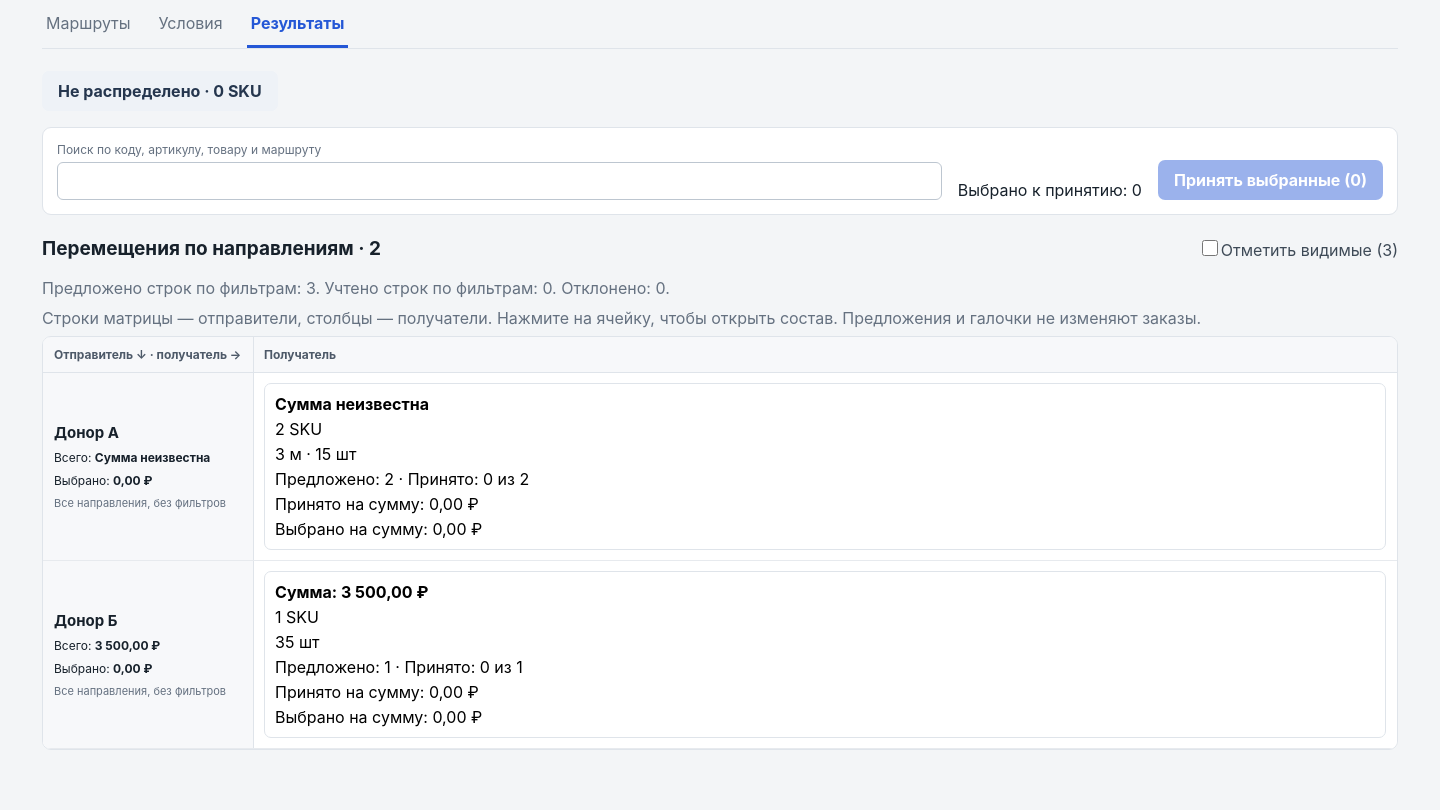
opens a route document with product identity, exact units and both stock previews without quantity editing
(page scrolled)
What coordinates should you click on to do the following:
click the button with aria-label "Открыть перемещение Донор А → Получатель"
I would click on:
 (825, 466)
Its box is [264,383,1386,550].
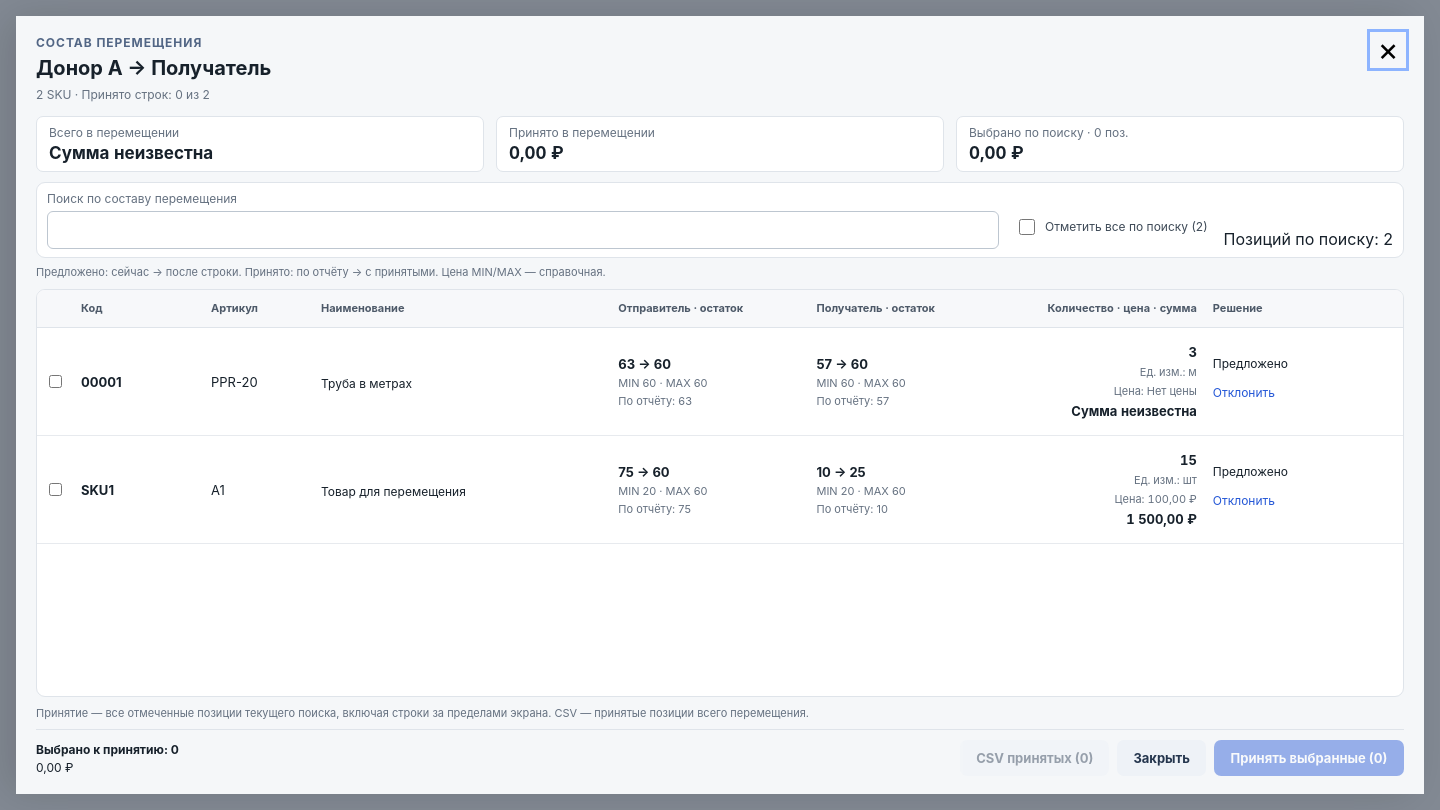
Now the dialog "Состав перемещения" shows "PPR-20", box [211,374,258,390]
Now the dialog "Состав перемещения" shows "Труба в метрах", box [321,376,602,391]
Now the row that starts with "SKU1" shows "75 → 60", box [37,436,1403,544]
